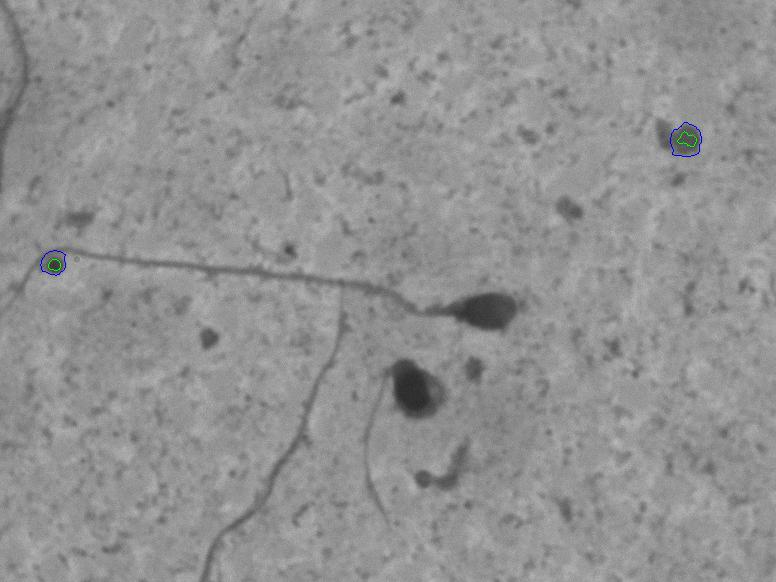Abnormal: (58, 212, 544, 338)
